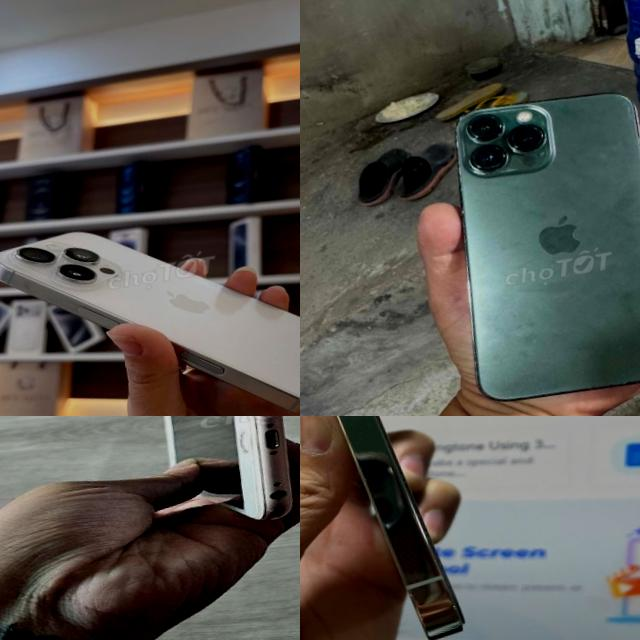scratch: (249, 496, 286, 520)
